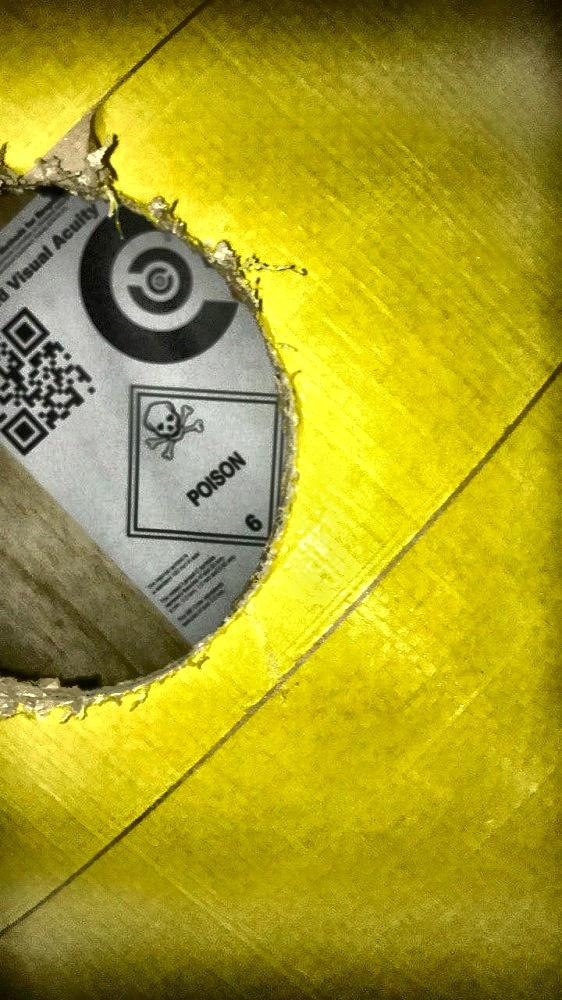poison: (127, 381, 285, 548)
